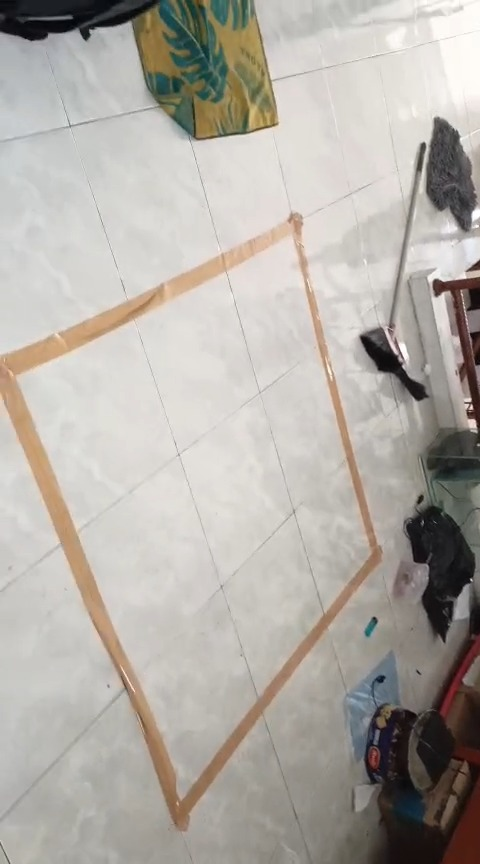floor marking: (0, 213, 381, 829)
